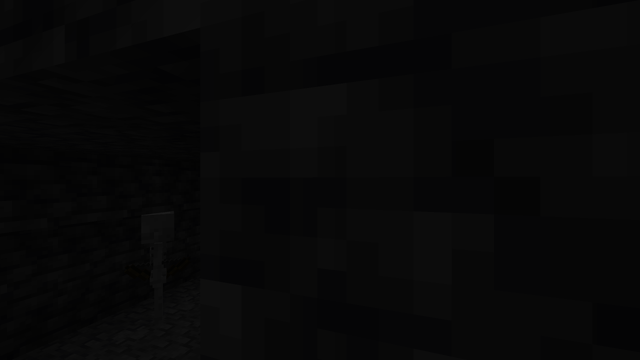squelettes: (131, 211, 184, 331)
